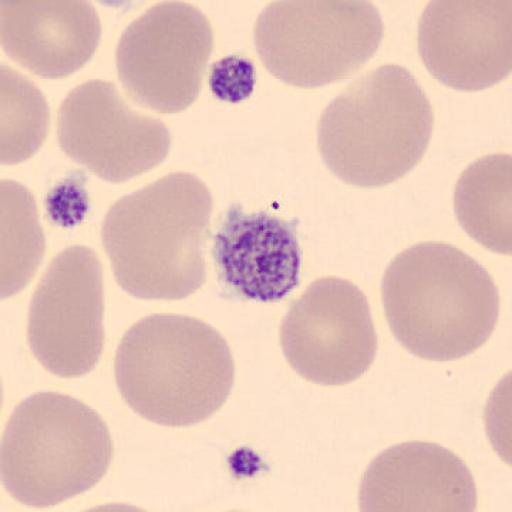Platelet: (209, 206, 306, 305), (42, 170, 95, 232), (205, 51, 261, 107)
RBC: (99, 170, 215, 308), (314, 61, 437, 191), (378, 240, 502, 365), (112, 309, 236, 430), (0, 388, 115, 509), (55, 78, 173, 184), (252, 0, 387, 90), (114, 0, 216, 116), (278, 274, 379, 388), (26, 242, 106, 380), (356, 437, 480, 512), (415, 0, 512, 95), (1, 0, 102, 80), (452, 150, 512, 256), (1, 178, 47, 302), (2, 62, 52, 166), (482, 367, 512, 474), (51, 500, 171, 512), (80, 0, 156, 13)
